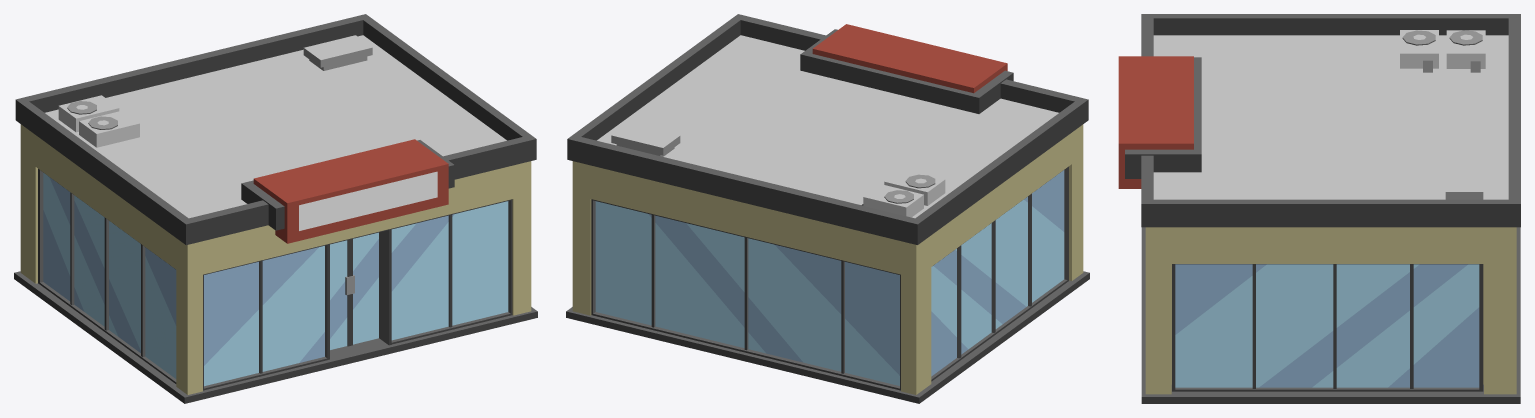
Rendered from supermarket_003.glb.
3 renders of one model, left to right at view 1: azimuth 30°, elevation 25°; view 2: azimuth 150°, elevation 25°; view 3: azimuth 270°, elevation 25°, orthographic. The views are drawn at different scales.
Parts seen in each view (by area): view 1: supermarket_003; view 2: supermarket_003; view 3: supermarket_003.
Part boxes in pixels (box(x1,y1,x2,y2)): supermarket_003: box(14, 14, 537, 403); supermarket_003: box(566, 14, 1089, 403); supermarket_003: box(1118, 14, 1520, 403).
Size of the model in its own units: 6.82 by 3.43 by 6.06.
Materials: 1 (1 with a texture image).
